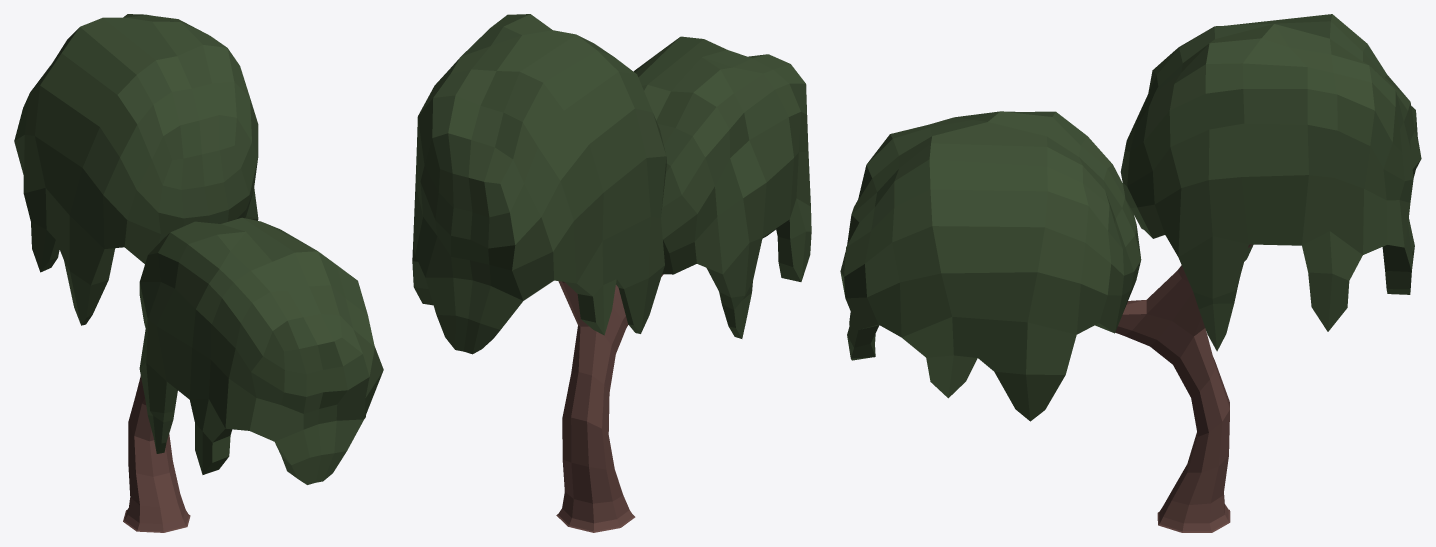
The model's file is willow5.glb.
The picture shows the model from 3 angles, left to right: view 1: azimuth 30°, elevation 25°; view 2: azimuth 150°, elevation 25°; view 3: azimuth 270°, elevation 25°; orthographic projection. The views are drawn at different scales.
Parts seen in each view (by area): view 1: Willow_5; view 2: Willow_5; view 3: Willow_5.
Part boxes in pixels (x1=…): Willow_5: x1=14, y1=14, x2=383, y2=532; Willow_5: x1=412, y1=14, x2=811, y2=532; Willow_5: x1=840, y1=14, x2=1421, y2=532.
Bounding box in the file's own units: 1.01 × 2.42 × 2.49.
